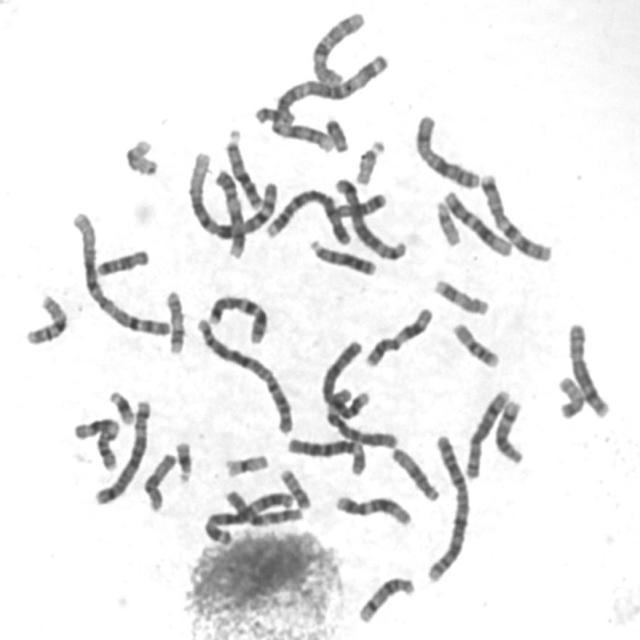A1: (67, 206, 173, 340), (183, 146, 282, 240)
A2: (192, 314, 296, 436), (421, 428, 472, 585)
A3: (264, 47, 392, 129), (202, 487, 295, 548)
B4: (261, 182, 353, 247), (317, 335, 373, 420)
B5: (90, 394, 153, 507), (331, 172, 408, 263)
C10: (306, 6, 368, 88), (221, 486, 305, 528)
C11: (360, 302, 436, 369), (68, 411, 122, 473)
C12: (438, 184, 514, 258), (331, 489, 414, 528)
C6: (322, 384, 400, 449), (283, 432, 369, 477)
C7: (476, 168, 556, 264), (203, 289, 270, 345)
C8: (460, 384, 513, 481), (564, 317, 612, 420)
C9: (252, 99, 336, 155), (210, 163, 249, 260)
D13: (221, 123, 264, 211), (306, 235, 378, 278)
D14: (354, 572, 417, 625), (490, 395, 526, 466)
D15: (387, 443, 441, 503), (139, 447, 178, 513)
E16: (20, 288, 70, 346), (448, 318, 502, 370)
E17: (429, 274, 492, 316), (162, 285, 187, 356)
E18: (92, 243, 152, 277), (330, 186, 387, 220)
F19: (120, 133, 161, 178), (220, 448, 271, 479)
F20: (275, 463, 313, 511), (552, 370, 586, 421)
G21: (104, 384, 138, 427), (171, 436, 195, 485)
G22: (351, 134, 388, 186), (432, 195, 463, 248)
X: (410, 109, 482, 191)
Y: (320, 113, 351, 154)
